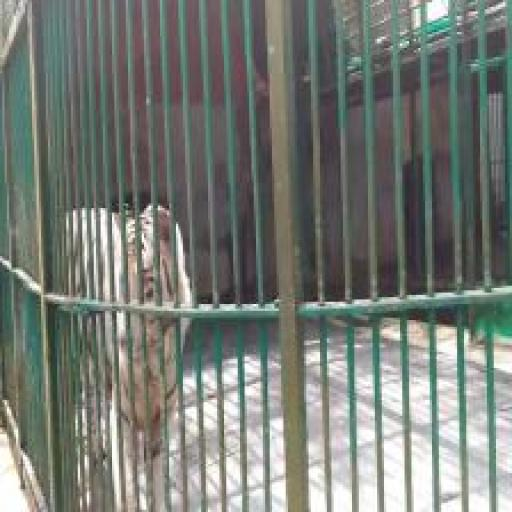Tiger: (62, 199, 200, 511)
